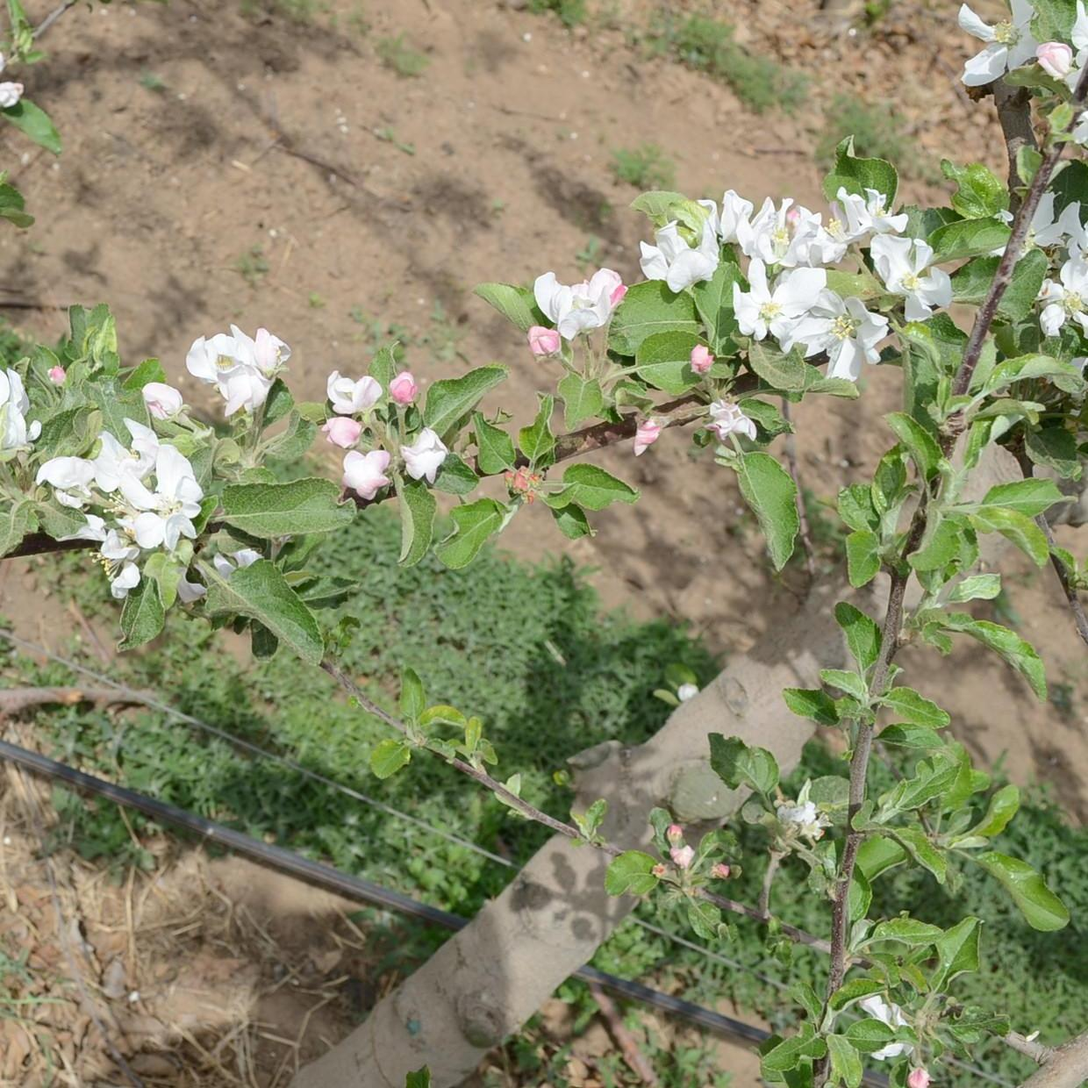apple_flower: (643, 185, 956, 378), (35, 418, 204, 598), (323, 370, 450, 499), (962, 0, 1088, 92), (188, 324, 291, 413), (1034, 193, 1088, 335), (534, 266, 628, 339), (0, 367, 40, 457), (388, 371, 420, 428), (0, 78, 23, 105)
